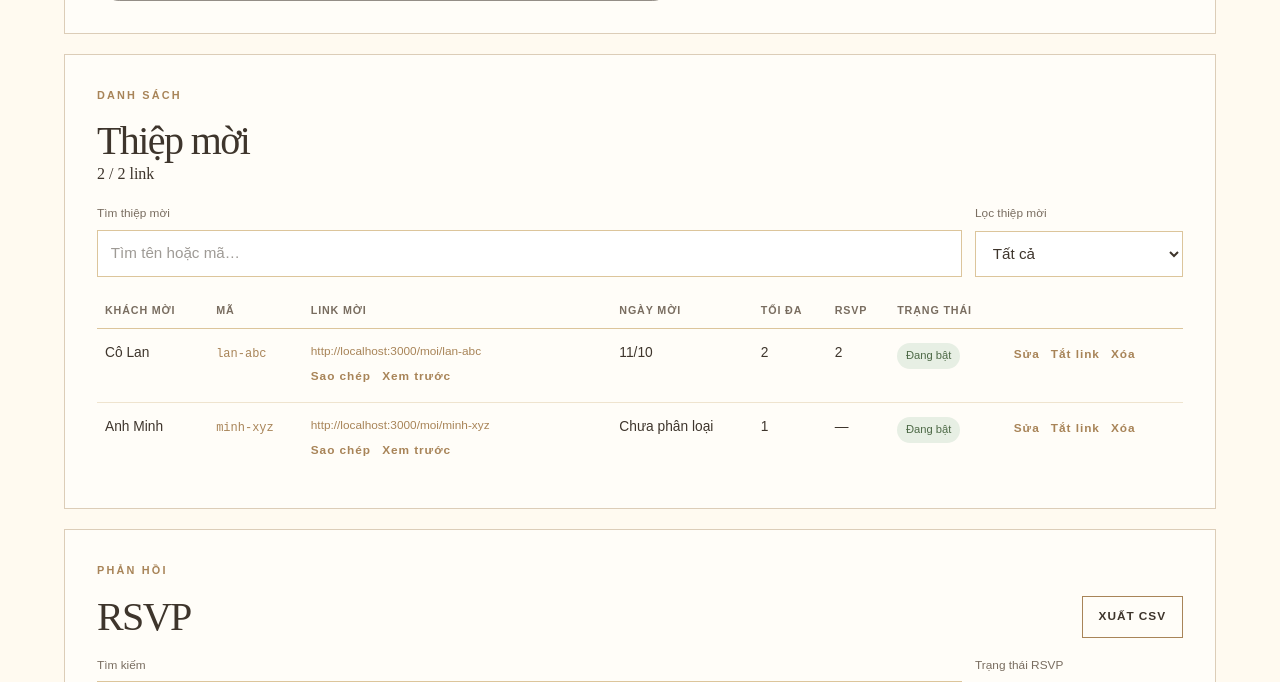
it: AdminDashboard › toggles an invitation active state through the protected API
The image size is (1280, 682).
(page scrolled)
Step 1. Click the button "Tắt link" in the row of "http://localhost:3000/moi/lan-abc" → point(1075, 355), box [1051,343,1100,367]
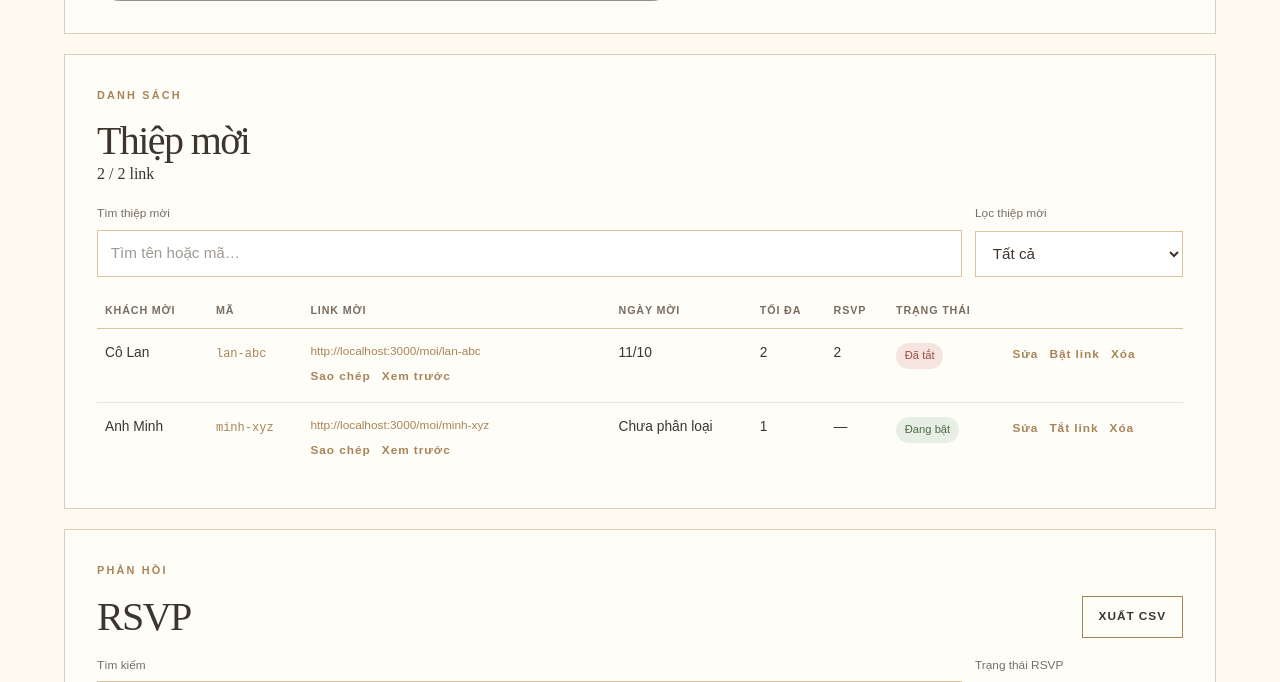
expect the button "Bật link" is shown: met, box [1049,343,1100,367]
